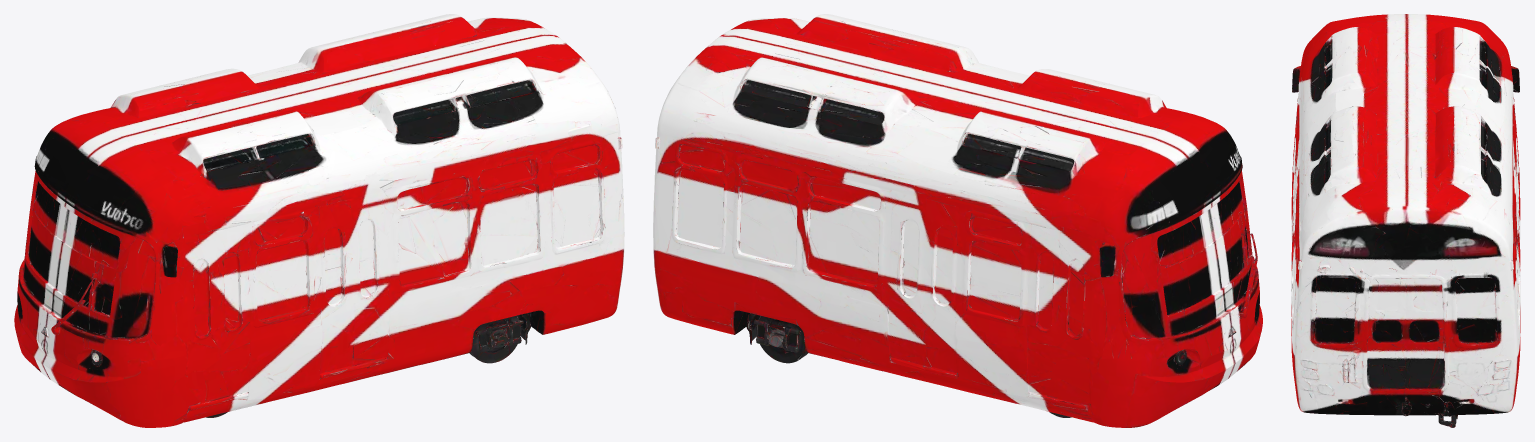
The model's file is rail_car3.glb.
3 renders of one model, left to right at view 1: azimuth 30°, elevation 25°; view 2: azimuth 150°, elevation 25°; view 3: azimuth 270°, elevation 25°, orthographic. The views are drawn at different scales.
Bounding box in the file's own units: 1.9 × 0.945 × 0.8129.
1 material, 1 textured.
